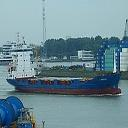Ships: (6, 50, 123, 96)
